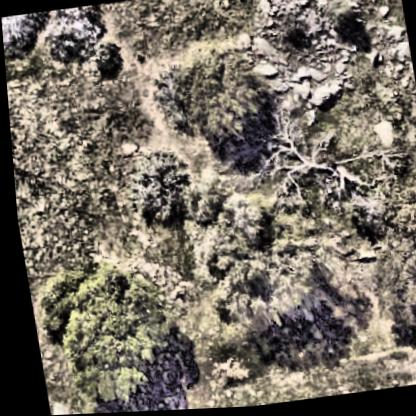tree-top: (29, 245, 188, 416), (169, 175, 333, 336), (129, 37, 274, 162), (247, 113, 388, 224), (1, 4, 128, 100), (361, 197, 416, 385), (107, 147, 205, 238)
